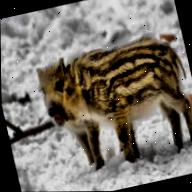boar: (31, 25, 192, 179)
